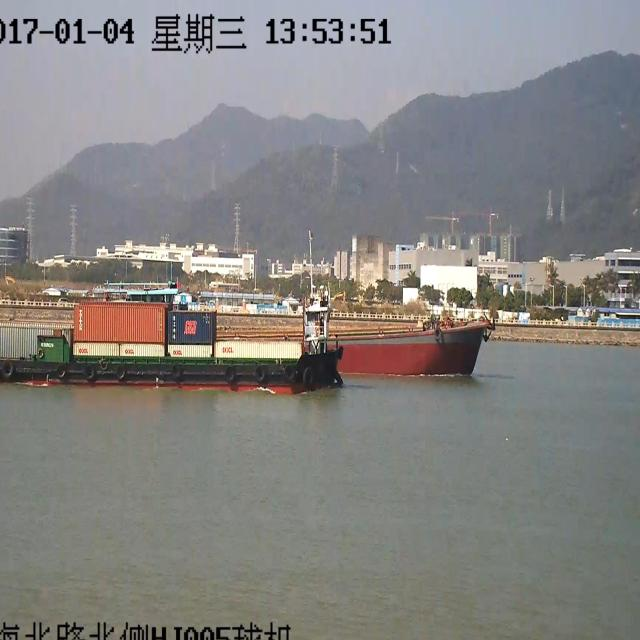cargoship: (0, 275, 347, 421), (345, 260, 517, 408)
